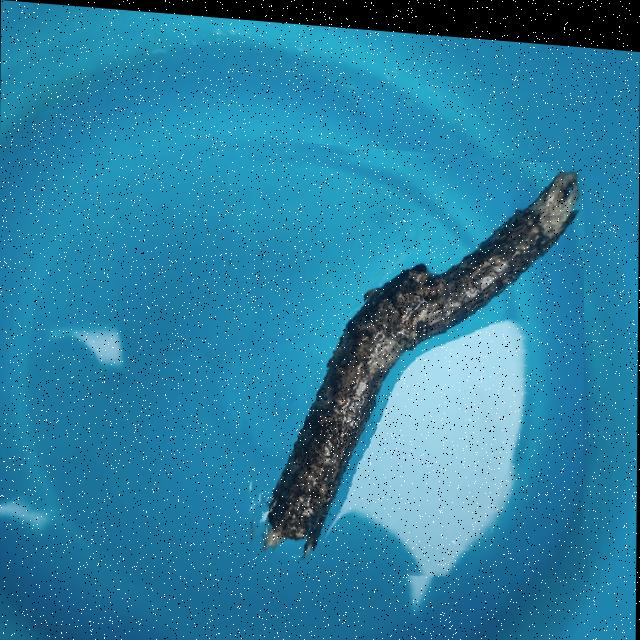wood: (230, 133, 584, 585)
